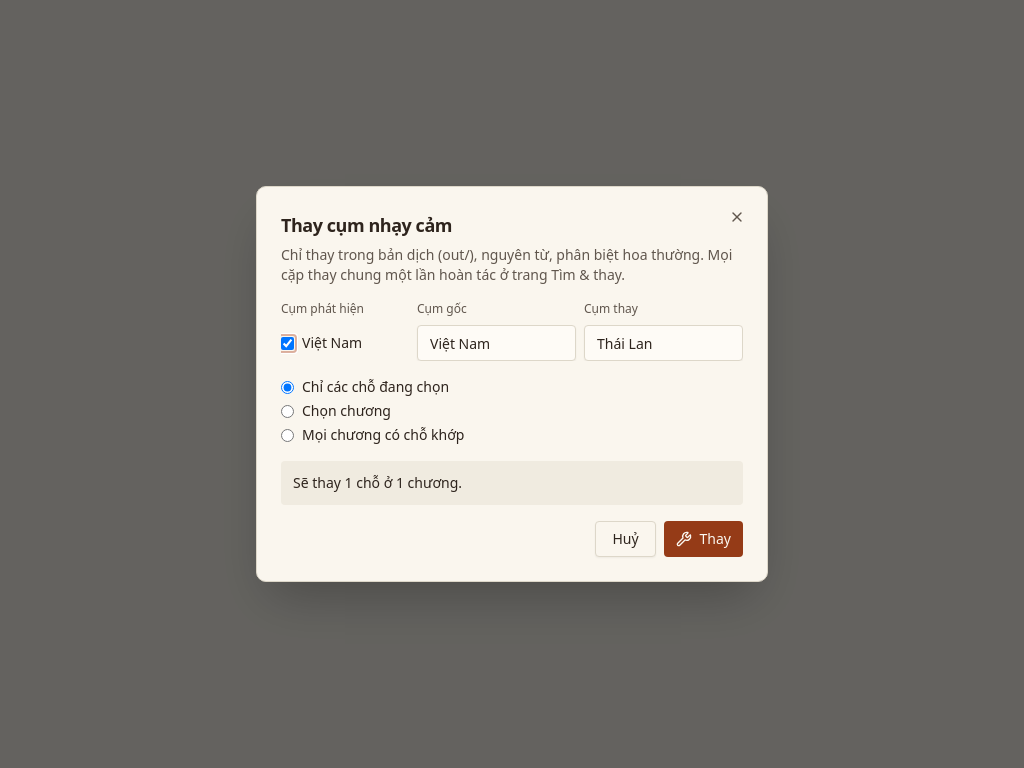
VnReplaceDialog › phạm vi 'chọn chương': tick theo khoảng (số thứ tự hoặc mã chương)
Expected: the field showing "Thái Lan" is shown, [584,325,743,361]
Click the radio button labelled "Chọn chương".
click(288, 411)  # box [281,404,294,418]
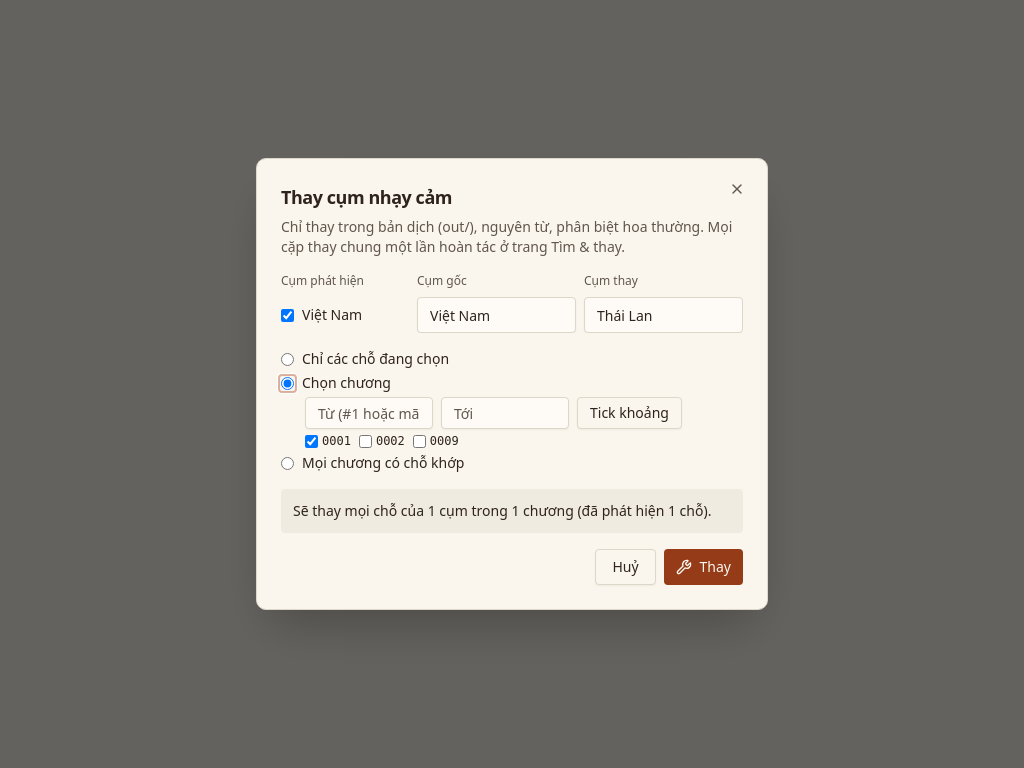
Type "2" into the field named "Từ chương".
click(369, 413); type("2")  # box [305,397,433,429]
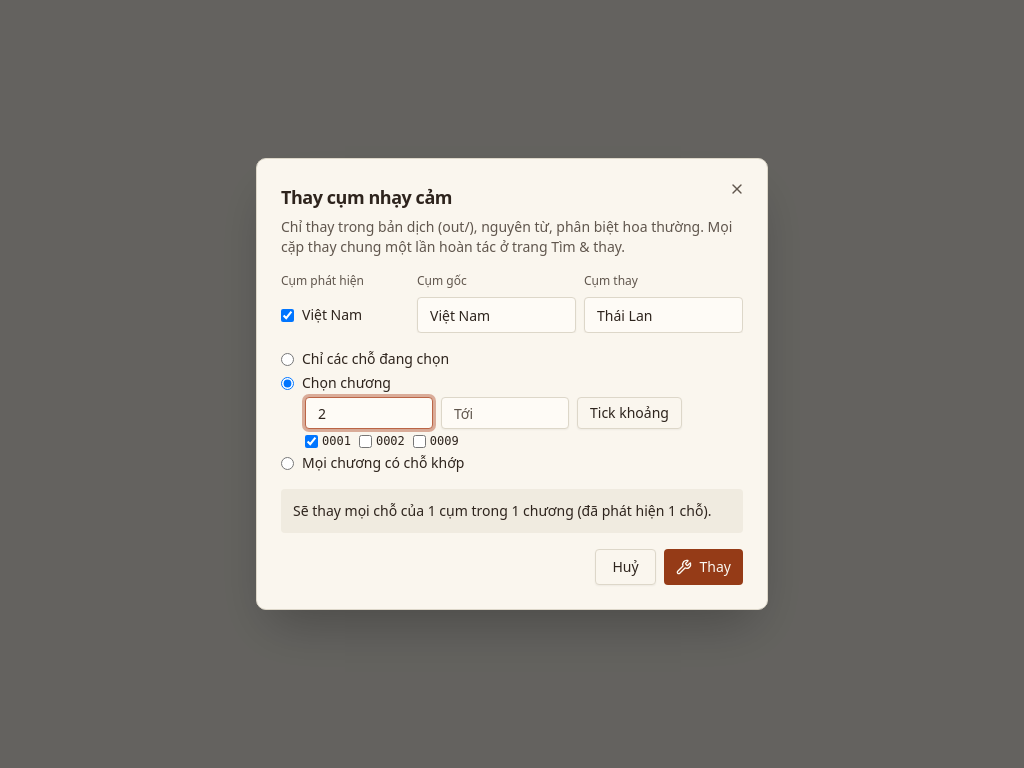
Type "0009" into the field named "Tới chương".
click(505, 413); type("0009")  # box [441,397,569,429]
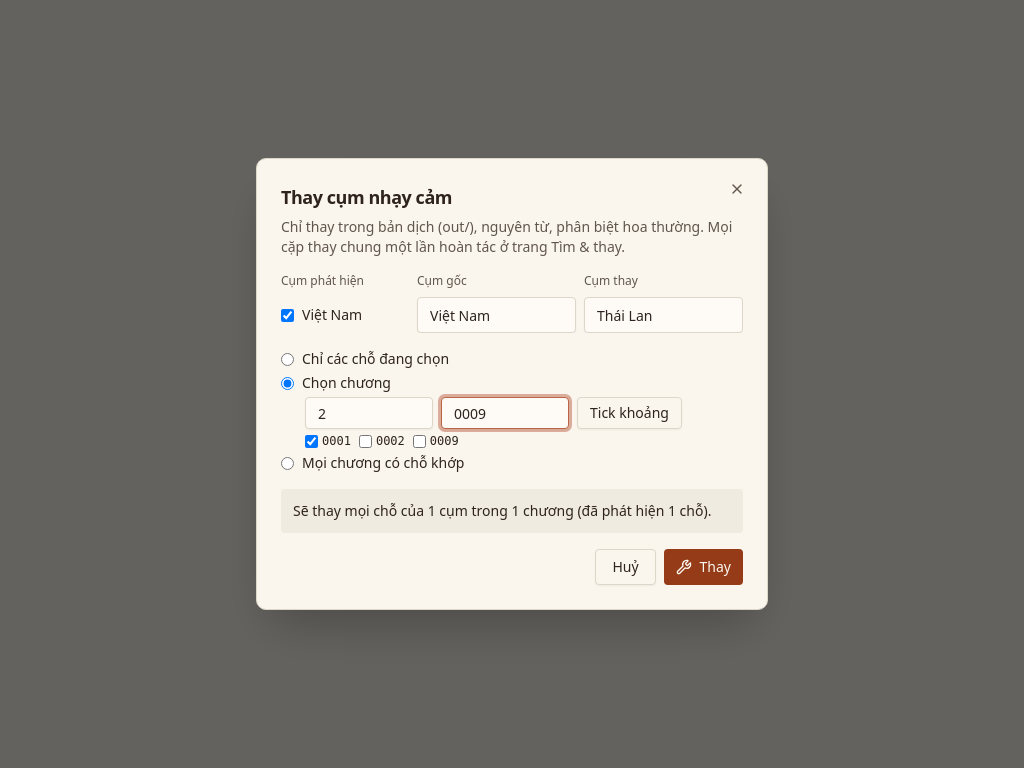
Click the button "Tick khoảng".
click(630, 413)  # box [577,397,682,429]
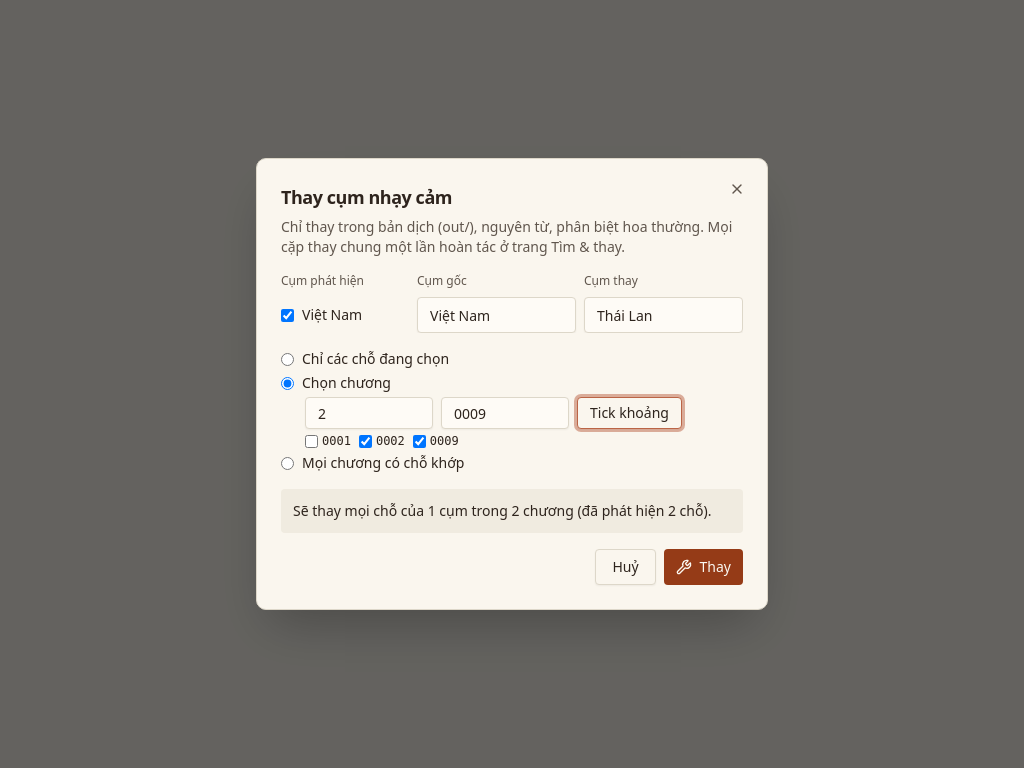
Now the checkbox labelled "0001" is not checked, box [305,434,318,448]
Now the checkbox labelled "0002" is checked, box [359,434,372,448]
Now the checkbox labelled "0009" is checked, box [413,434,426,448]
